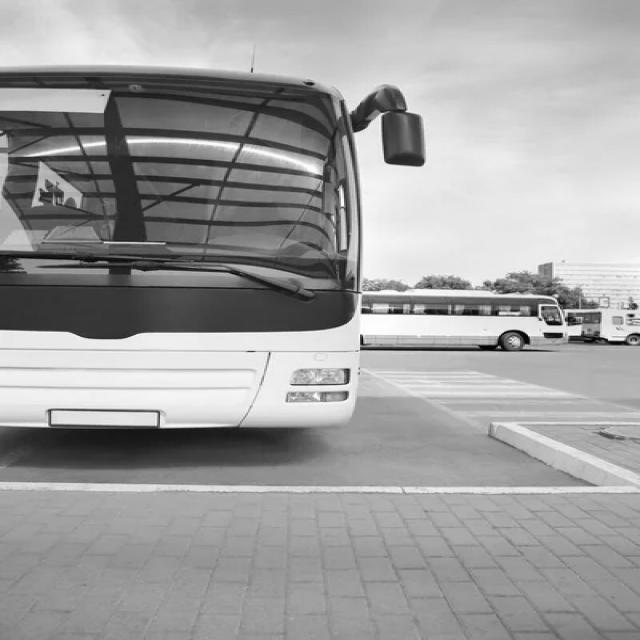Bus: (2, 65, 426, 429), (362, 290, 568, 351)
